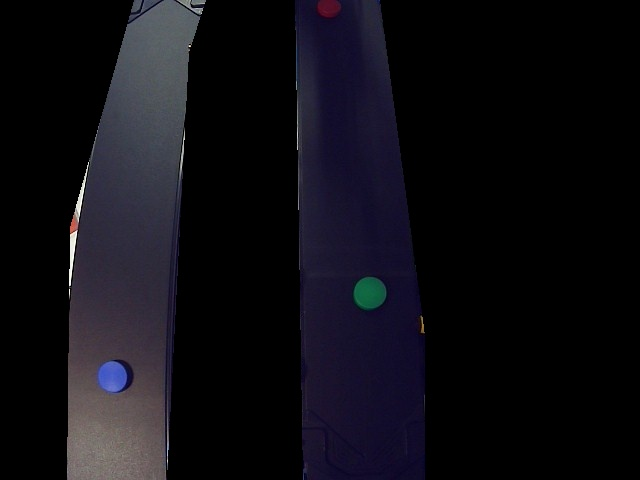Blue_Circle: (94, 359, 136, 394)
Green_Circle: (354, 272, 387, 312)
Red_Circle: (316, 0, 345, 20)
